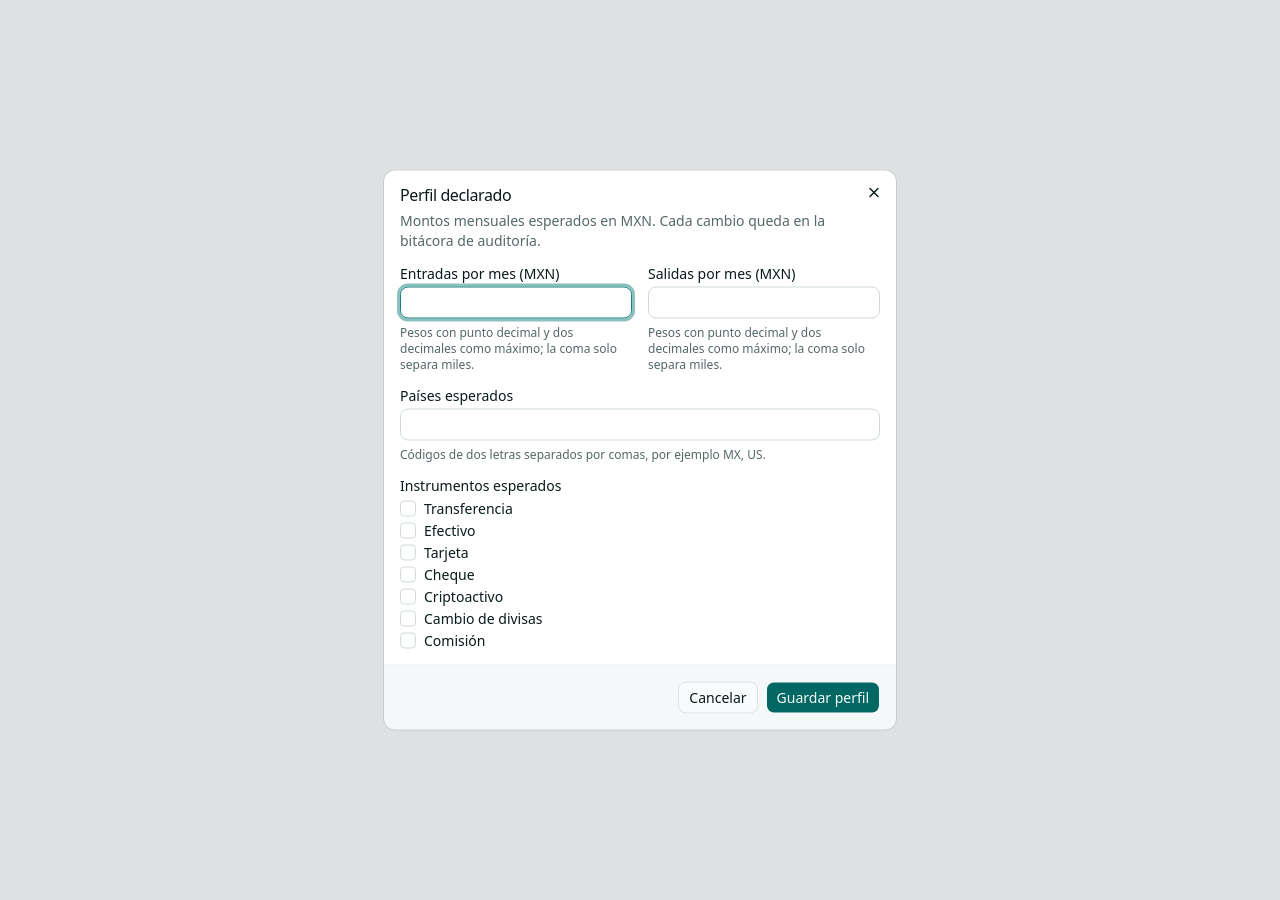
Test: DeclaredProfileDialog › refuses a negative amount without sending anything
Type "-100" into the field labelled "Entradas por mes (MXN)".
click(516, 302); type("-100")  # box x1=400 y1=286 x2=632 y2=318
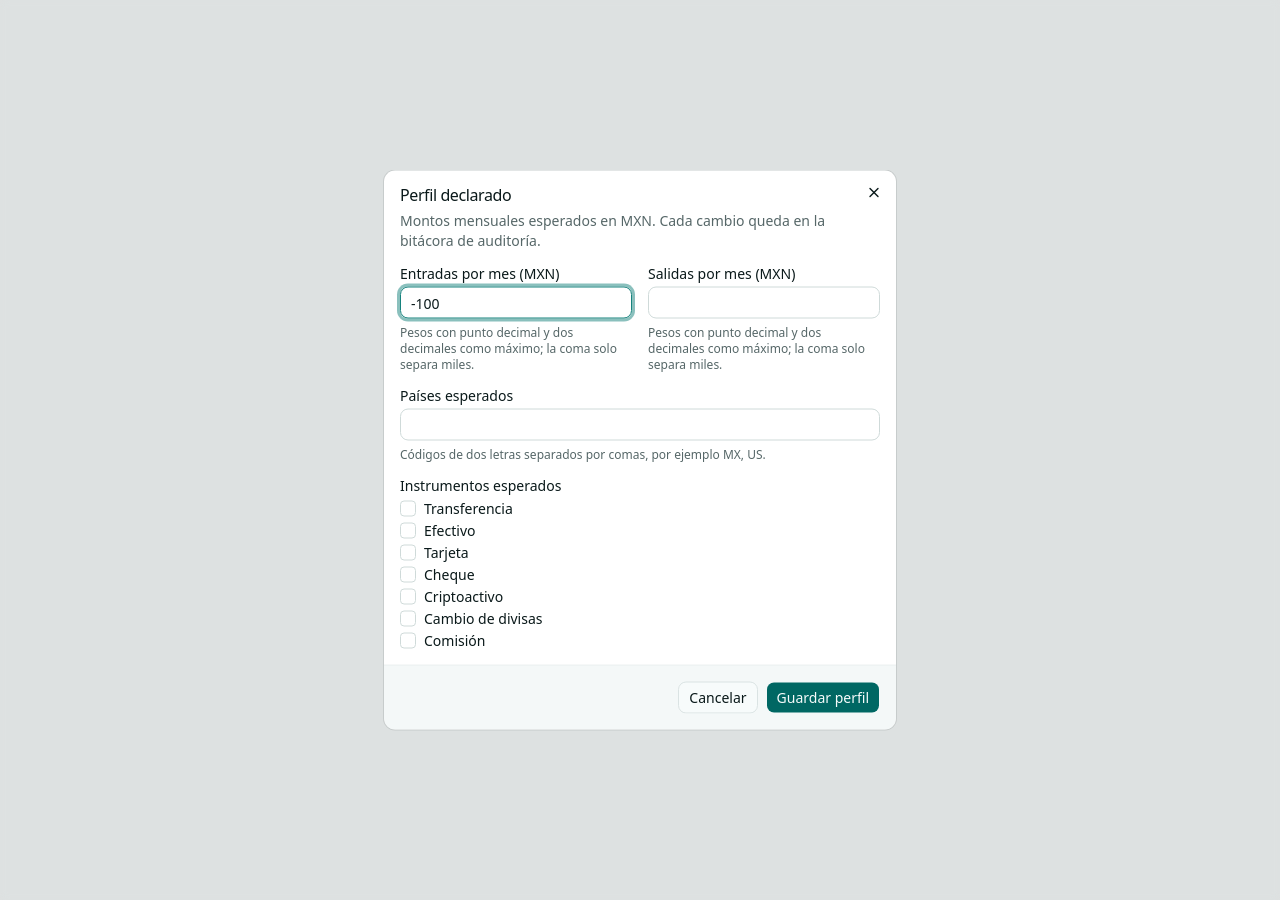
Type "100" into the field labelled "Salidas por mes (MXN)".
click(764, 302); type("100")  # box x1=648 y1=286 x2=880 y2=318
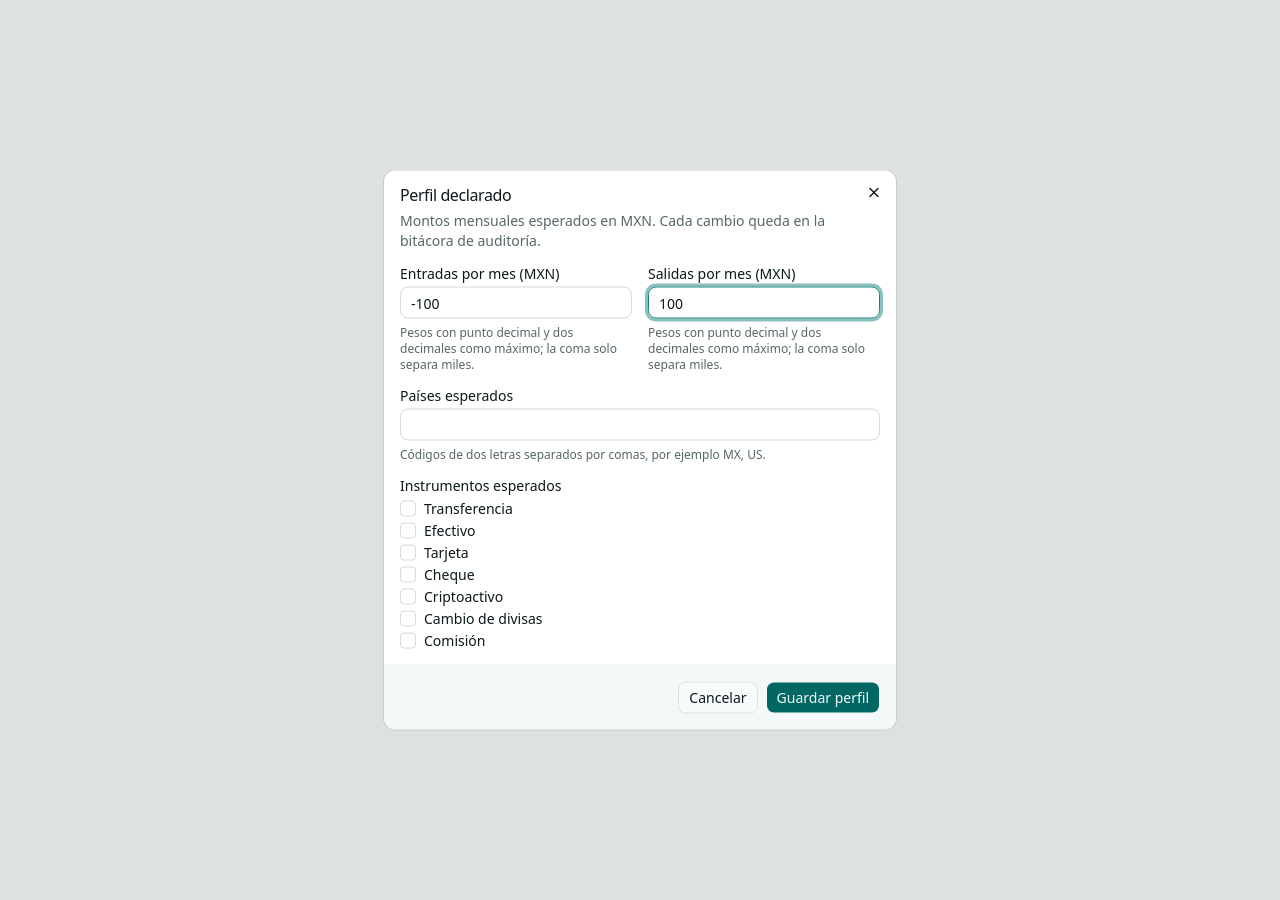
Click the button "Guardar perfil".
click(823, 698)  # box x1=766 y1=682 x2=880 y2=714
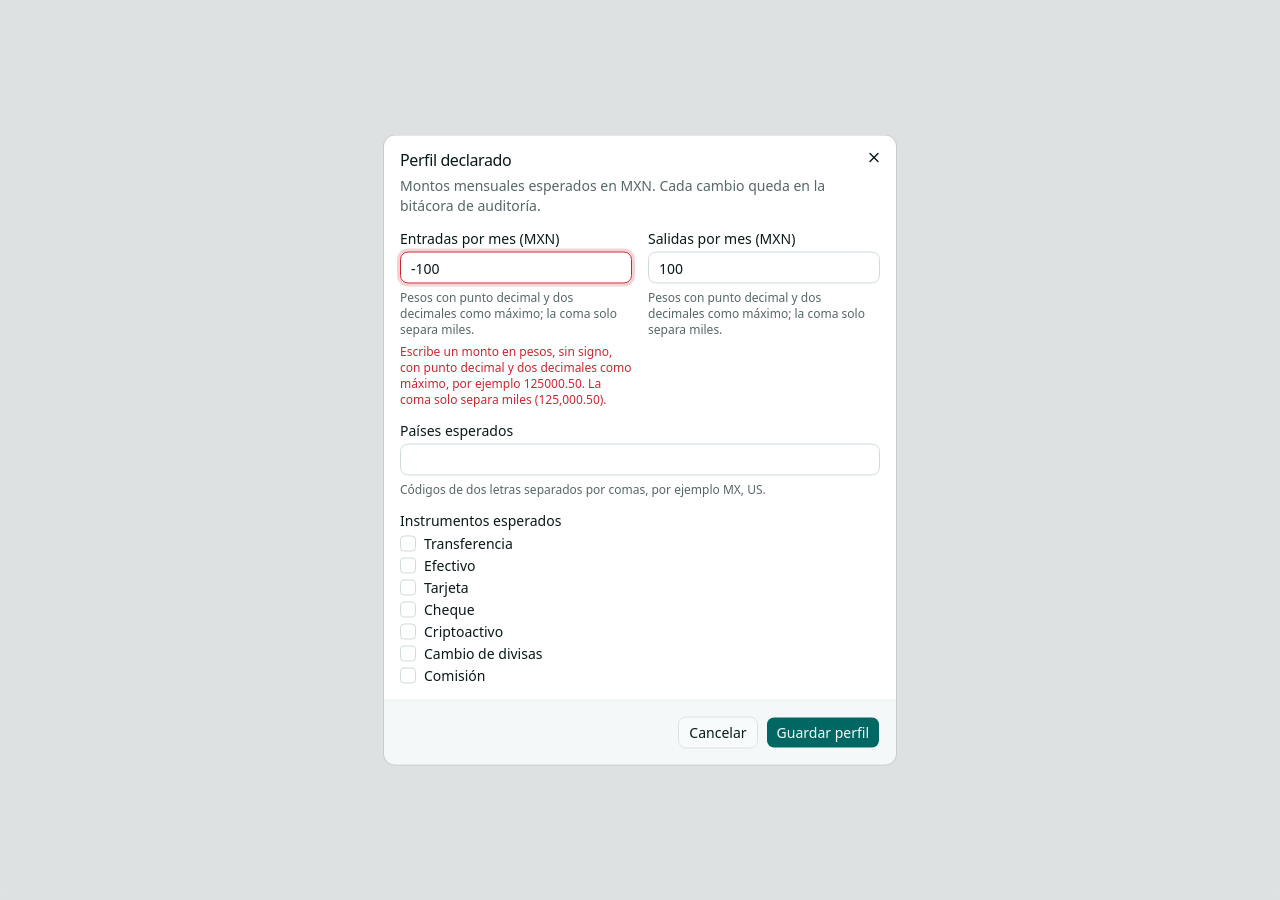
Expected: the text "Escribe un monto en pesos, sin signo, con punto decimal y dos decimales como máximo, por ejemplo 125000.50. La coma solo" is shown, x1=400 y1=342 x2=632 y2=408
